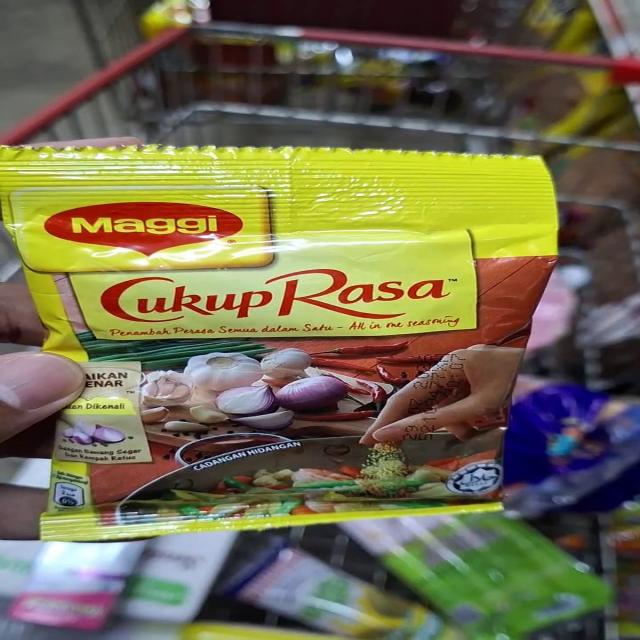Maggi Cukup Rasa: (0, 137, 542, 526)
